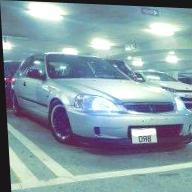License_Plate: (126, 122, 159, 147)
